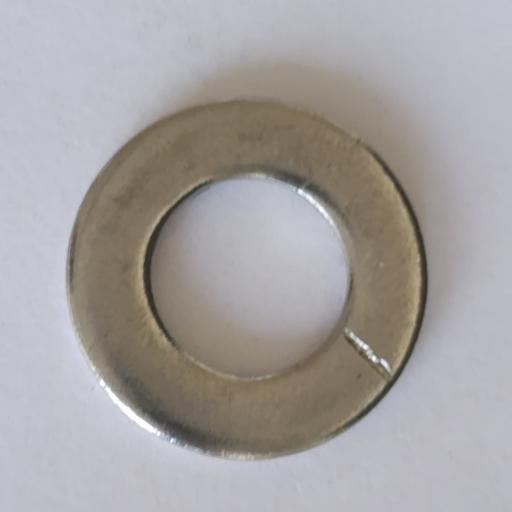scratch: (344, 327, 393, 383)
